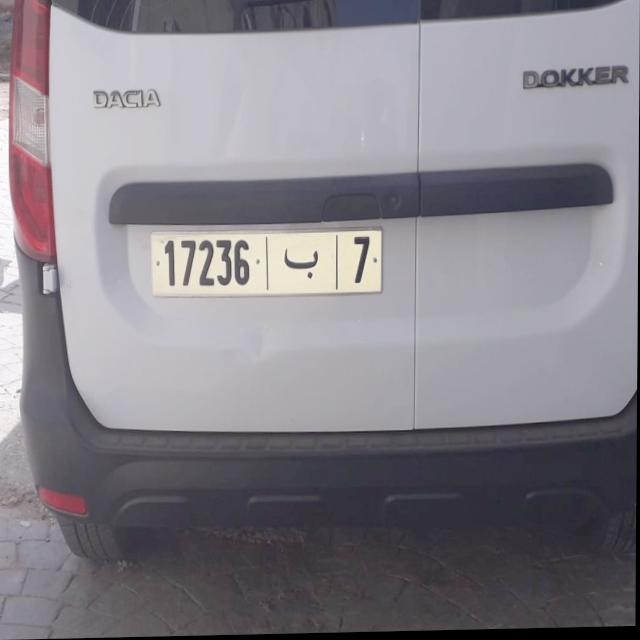License-Plate: (151, 233, 382, 297)
